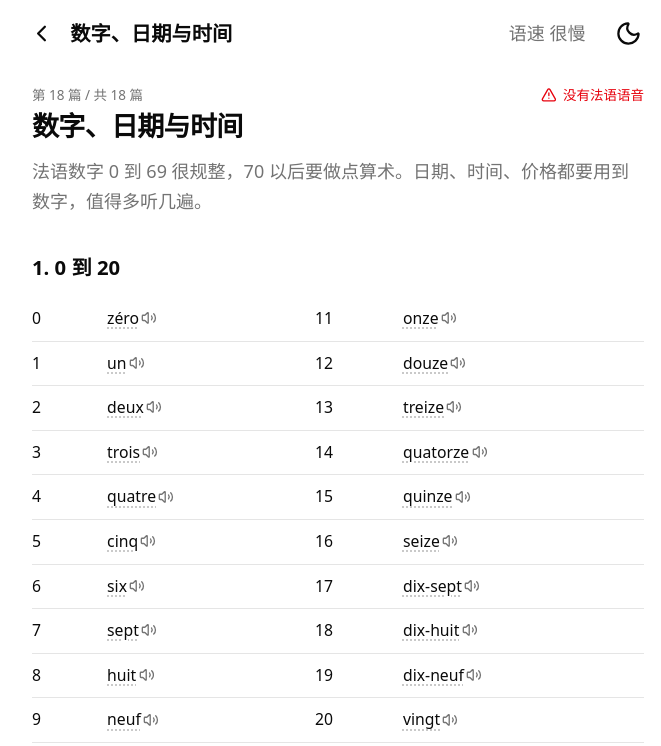
音标与朗读 › 直接打开某一页的链接，返回也能回到首页
Check: the heading "数字、日期与时间" is shown, box [32,107,243,144]
Click the button named "返回首页" at [41, 34], box [16,9,66,58]
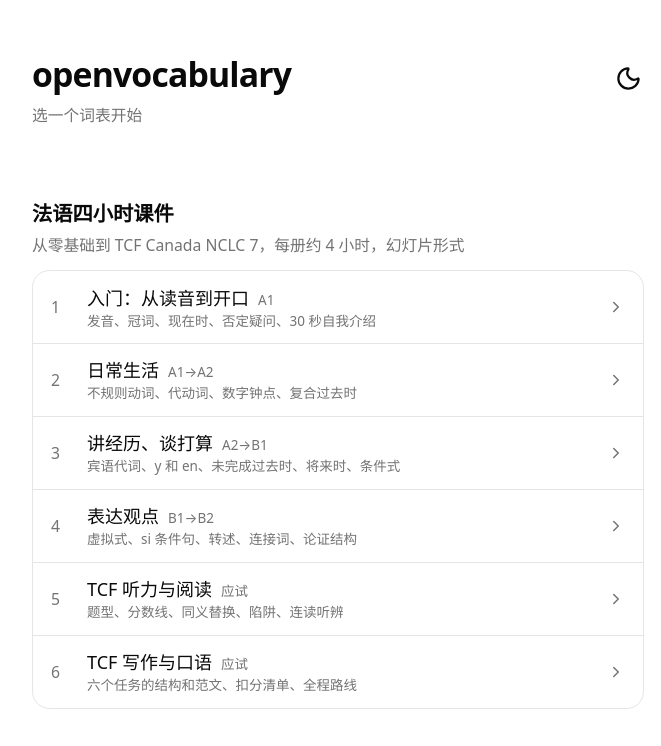
Check: the text "选一个词表开始" is shown, box [32,104,142,126]
